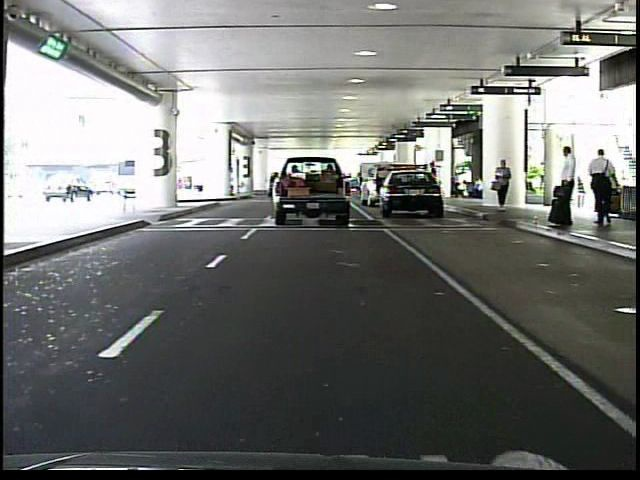person: (587, 145, 621, 230), (547, 142, 579, 231), (493, 152, 518, 216), (429, 159, 443, 202)
